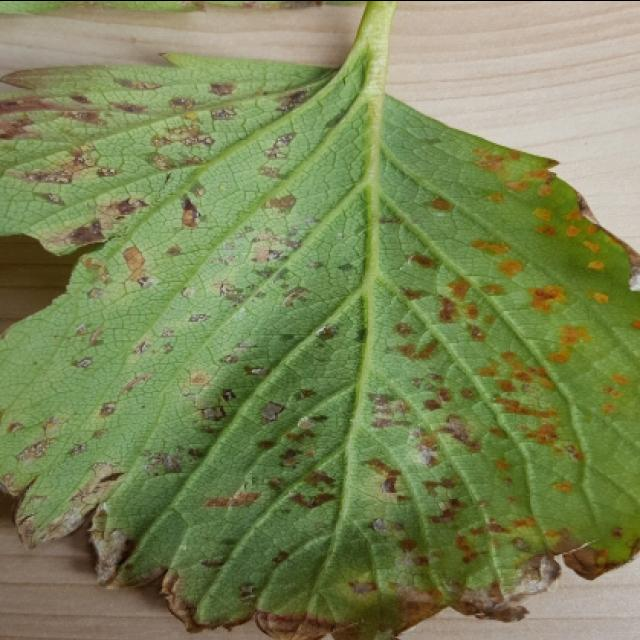Angular Leafspot: (0, 50, 638, 638)
